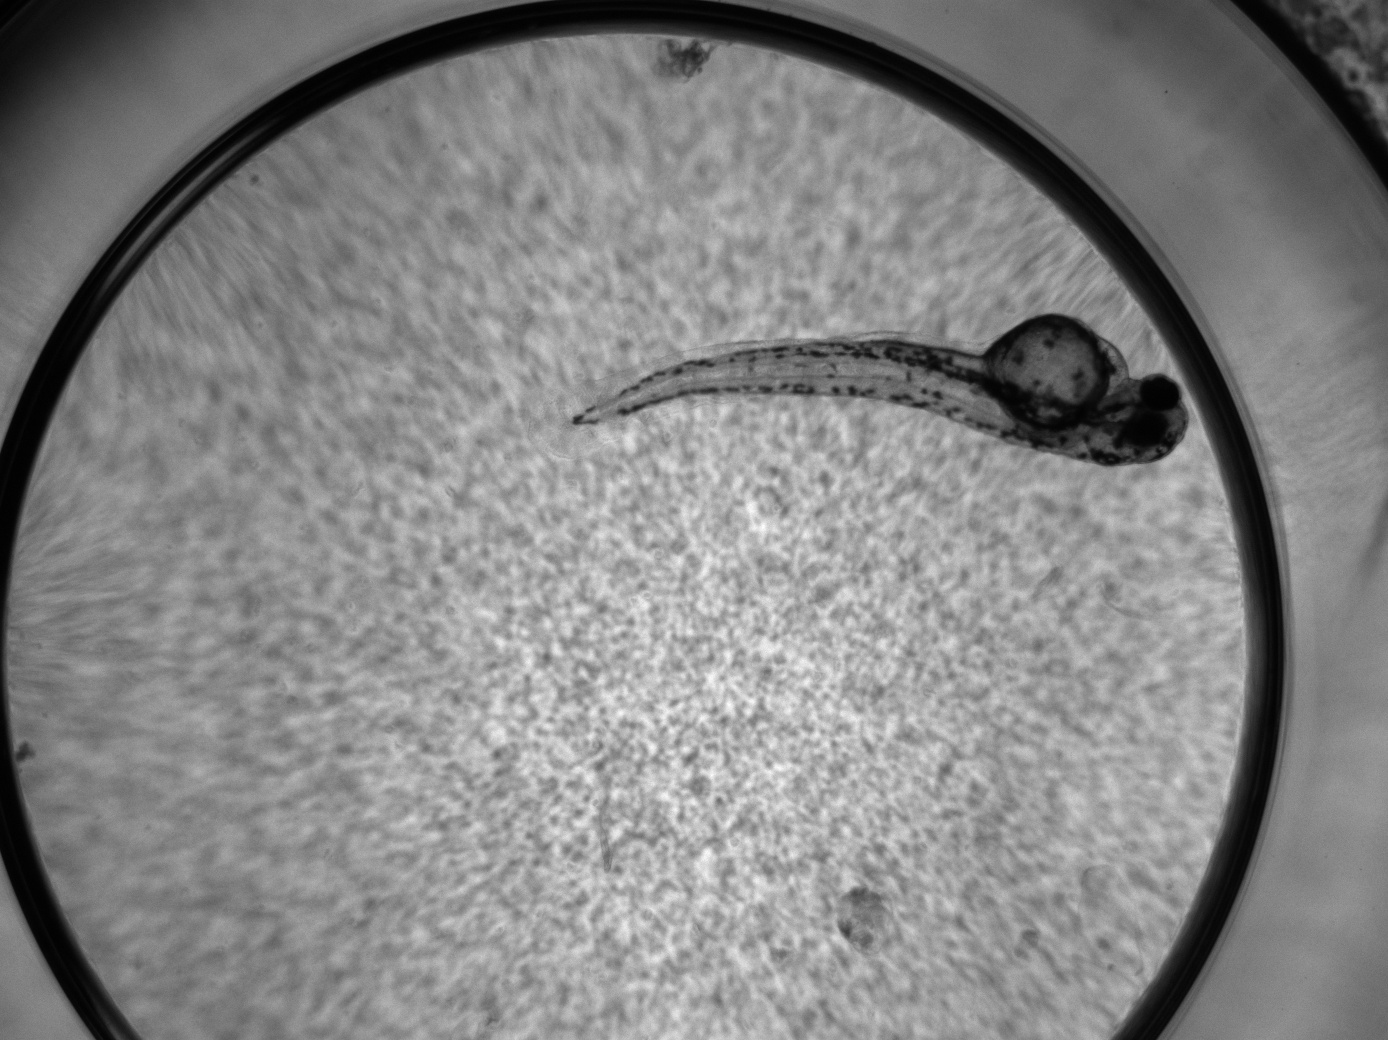embryo: (571, 312, 1188, 466)
eye: (1125, 409, 1168, 445), (1139, 374, 1181, 411)
yolksac: (986, 314, 1131, 432)
